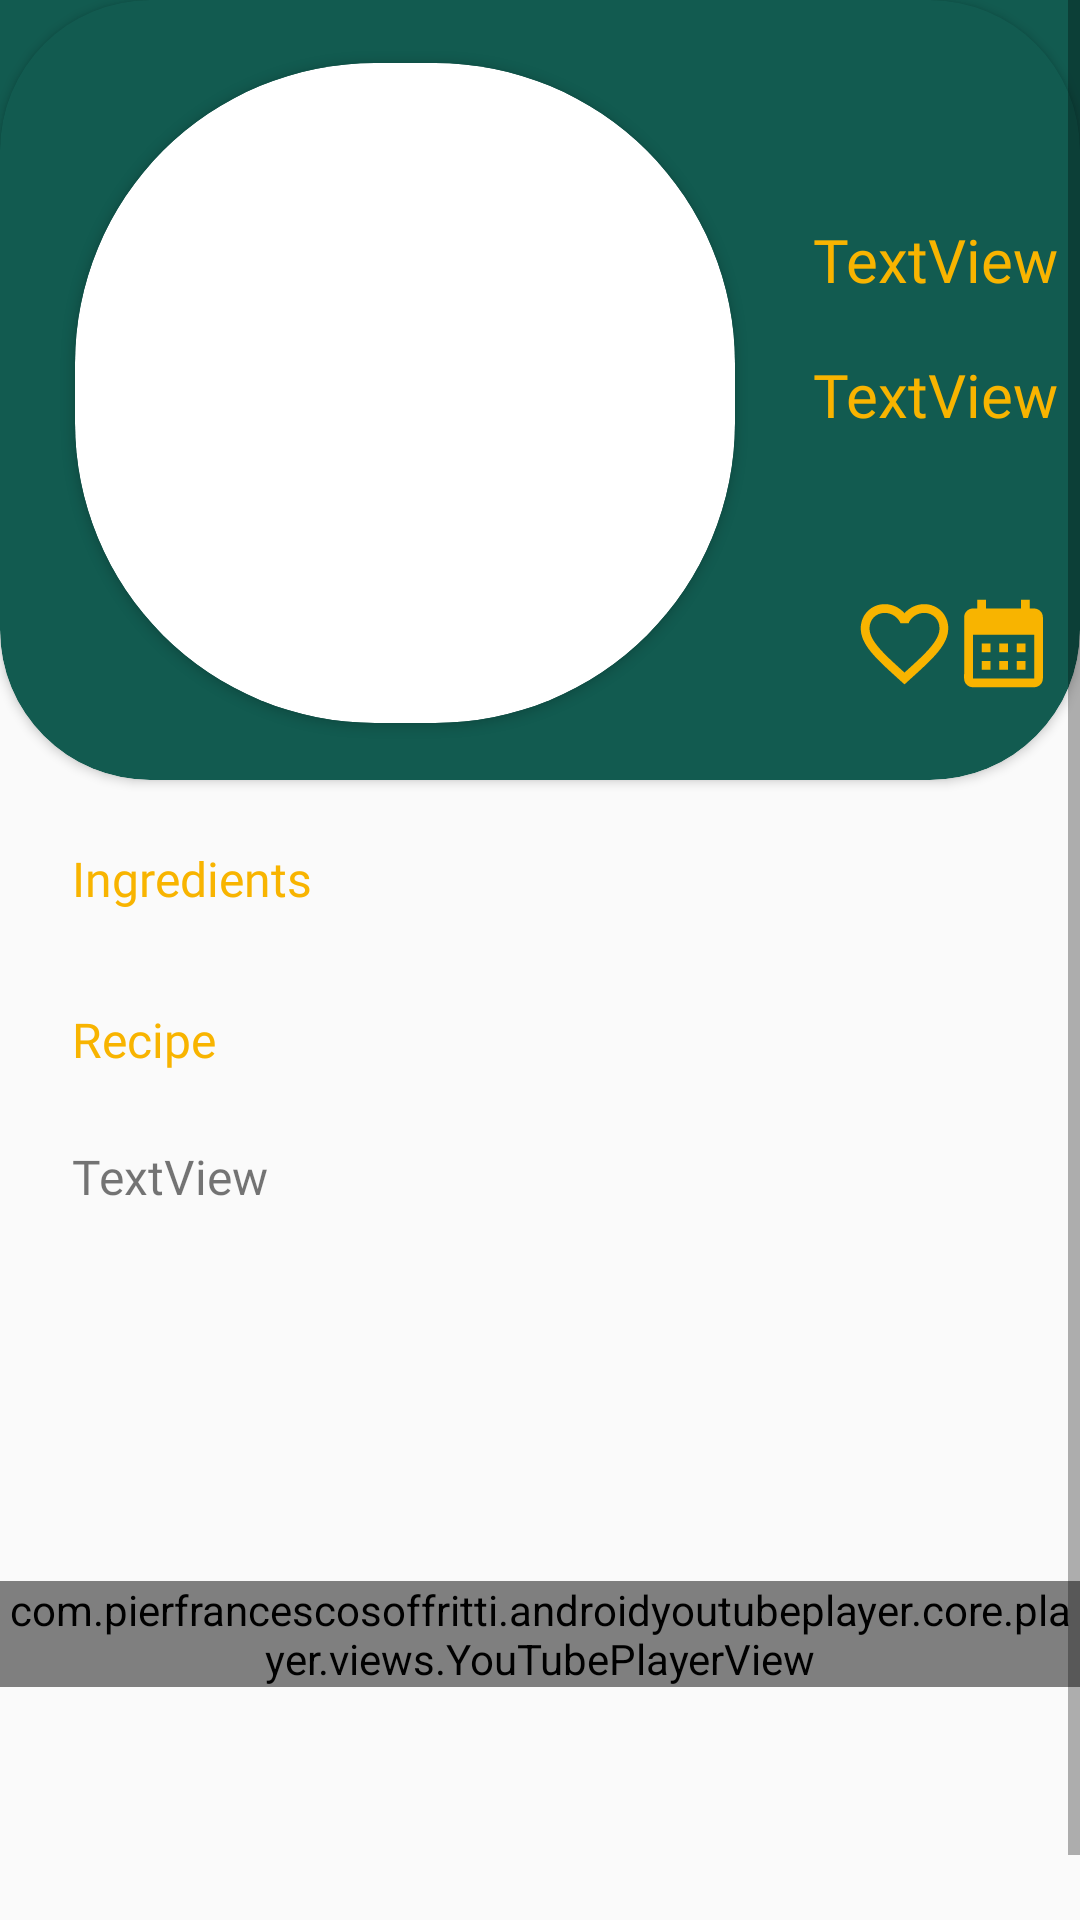

Where icons sit on this 1080px×1920px app screen, as Rect(x1, y1, x2, y2):
calendar: Rect(964, 599, 1043, 688)
favorite border: Rect(860, 604, 949, 685)
